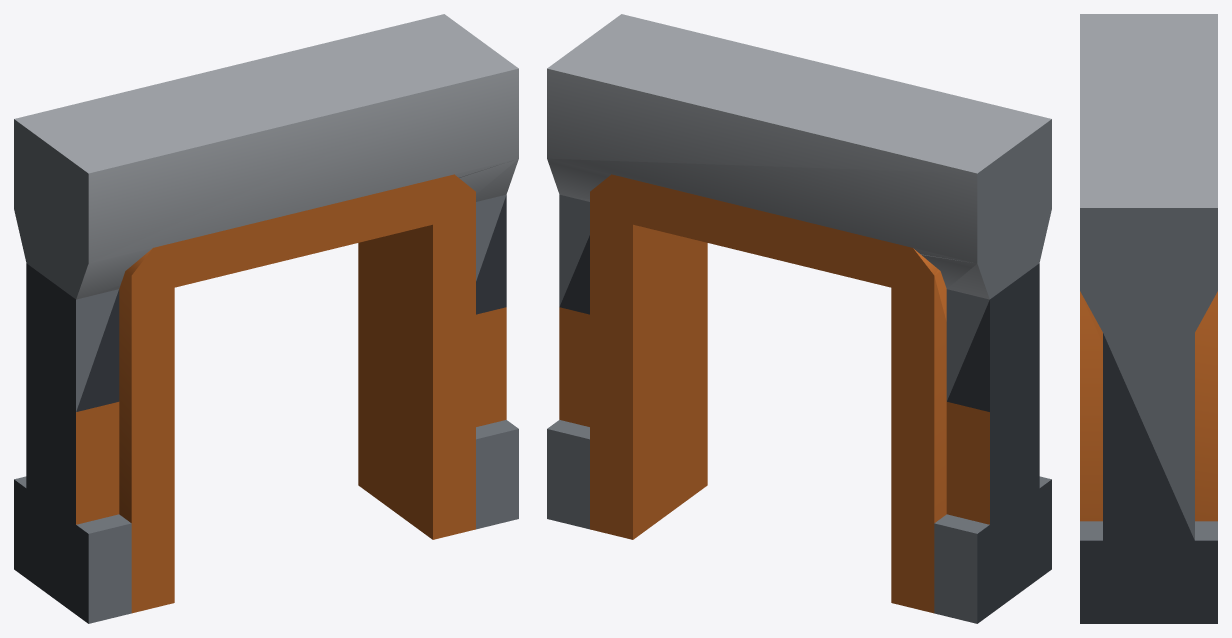
File: Kit_wall-door-wide-banner.fbx
3 views of the same model, side by side, from view 1: azimuth 30°, elevation 25°; view 2: azimuth 150°, elevation 25°; view 3: azimuth 270°, elevation 25° (orthographic). The views are drawn at different scales.
Parts seen in each view (by area): view 1: Kit_wall-door-wide-banner; view 2: Kit_wall-door-wide-banner; view 3: Kit_wall-door-wide-banner.
Part boxes in pixels (<box>): Kit_wall-door-wide-banner: <box>14,14,518,623</box>; Kit_wall-door-wide-banner: <box>547,14,1051,623</box>; Kit_wall-door-wide-banner: <box>1080,14,1217,623</box>.
Bounding box in the file's own units: 1 × 1 × 0.3.
